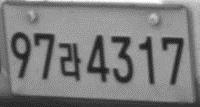1: (138, 35, 155, 85)
3: (110, 34, 134, 83)
4: (87, 33, 110, 82)
7: (161, 36, 184, 85), (32, 32, 55, 80)
9: (10, 30, 31, 79)
라: (58, 42, 82, 81)
